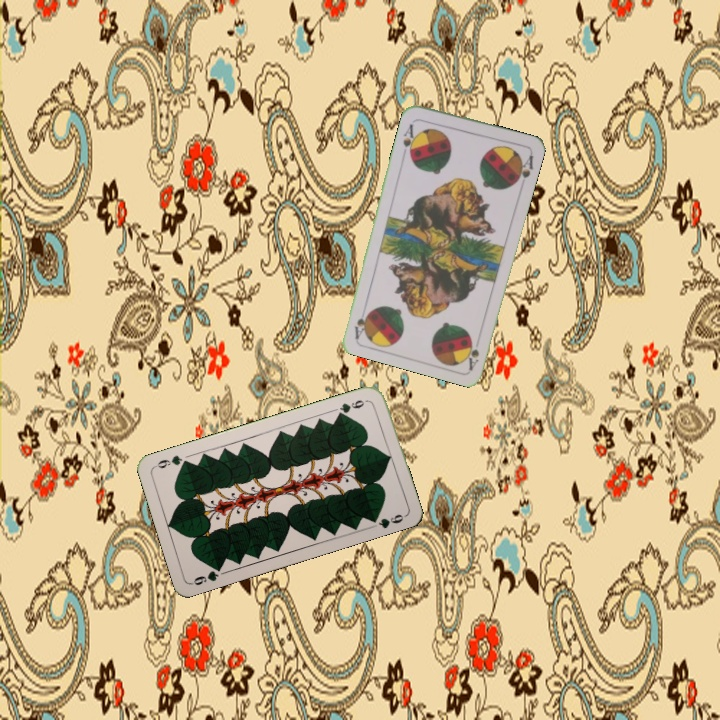G9: (188, 561, 225, 588), (333, 396, 367, 419)
SA: (399, 120, 420, 158), (461, 333, 482, 371)
